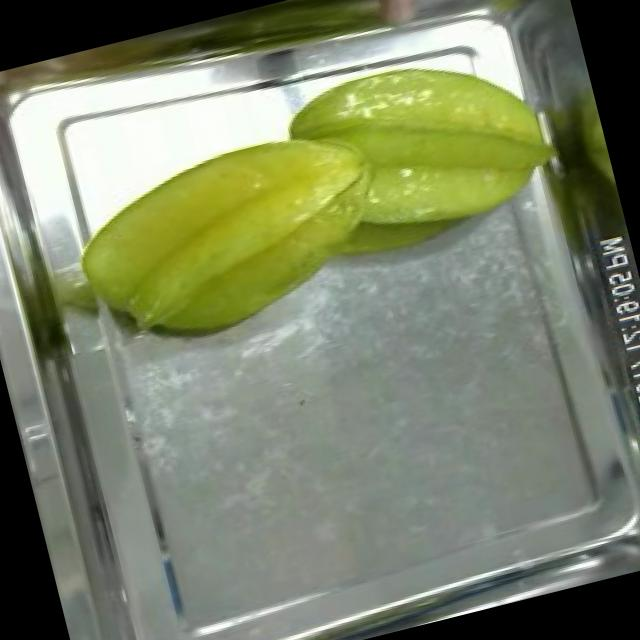fruit: (51, 103, 410, 371), (265, 22, 576, 272)
